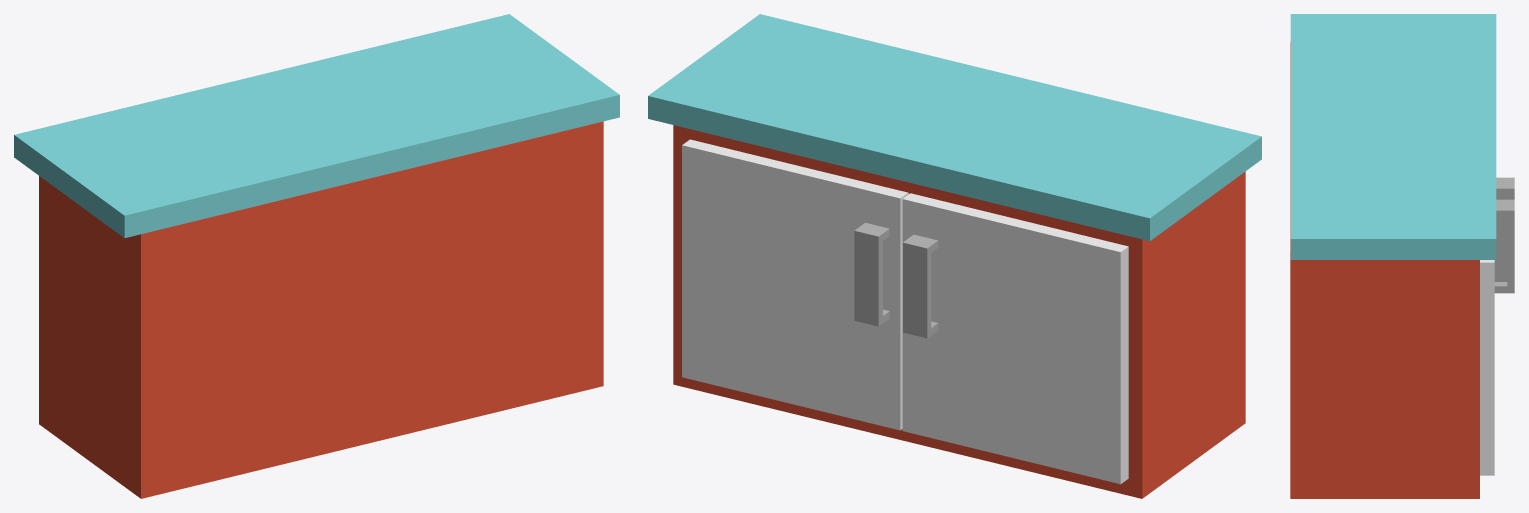
Rendered from Dresser 1.fbx.
3 views of the same model, side by side, from view 1: azimuth 30°, elevation 25°; view 2: azimuth 150°, elevation 25°; view 3: azimuth 270°, elevation 25° (orthographic). The views are drawn at different scales.
Parts seen in each view (by area): view 1: Dresser; view 2: Dresser, Right_Door, Left_Door, Left_Handle, Right_Handle; view 3: Dresser, Left_Door, Left_Handle, Right_Handle.
Part boxes in pixels (box(x1,y1,x2,y2)): Dresser: box(14, 14, 619, 498); Dresser: box(648, 14, 1261, 498); Right_Door: box(902, 193, 1128, 484); Left_Door: box(682, 139, 908, 430); Left_Handle: box(854, 222, 889, 326); Right_Handle: box(903, 234, 938, 338); Dresser: box(1290, 14, 1496, 498); Left_Door: box(1480, 260, 1494, 475); Left_Handle: box(1494, 199, 1514, 293); Right_Handle: box(1496, 177, 1514, 199).
Bounding box in the file's own units: 161 × 88.99 × 67.76.
